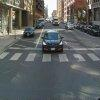Crosswalk: (8, 43, 99, 74)
